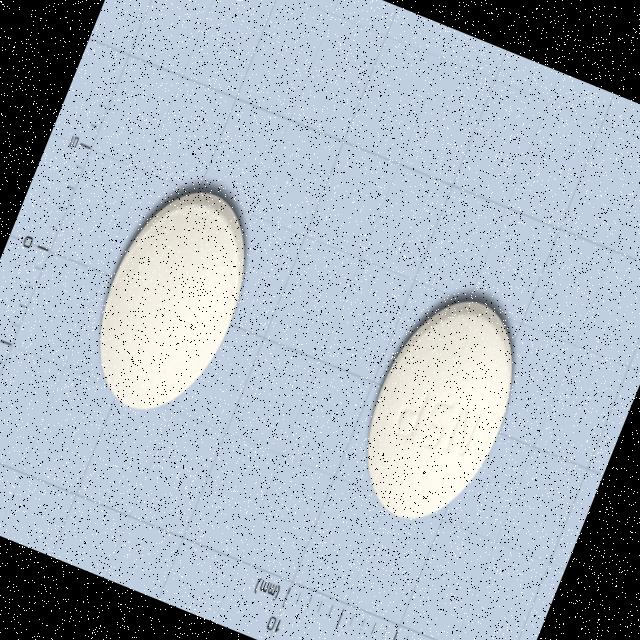Ciproctan - 500mg: (326, 266, 546, 544), (63, 160, 280, 438)
